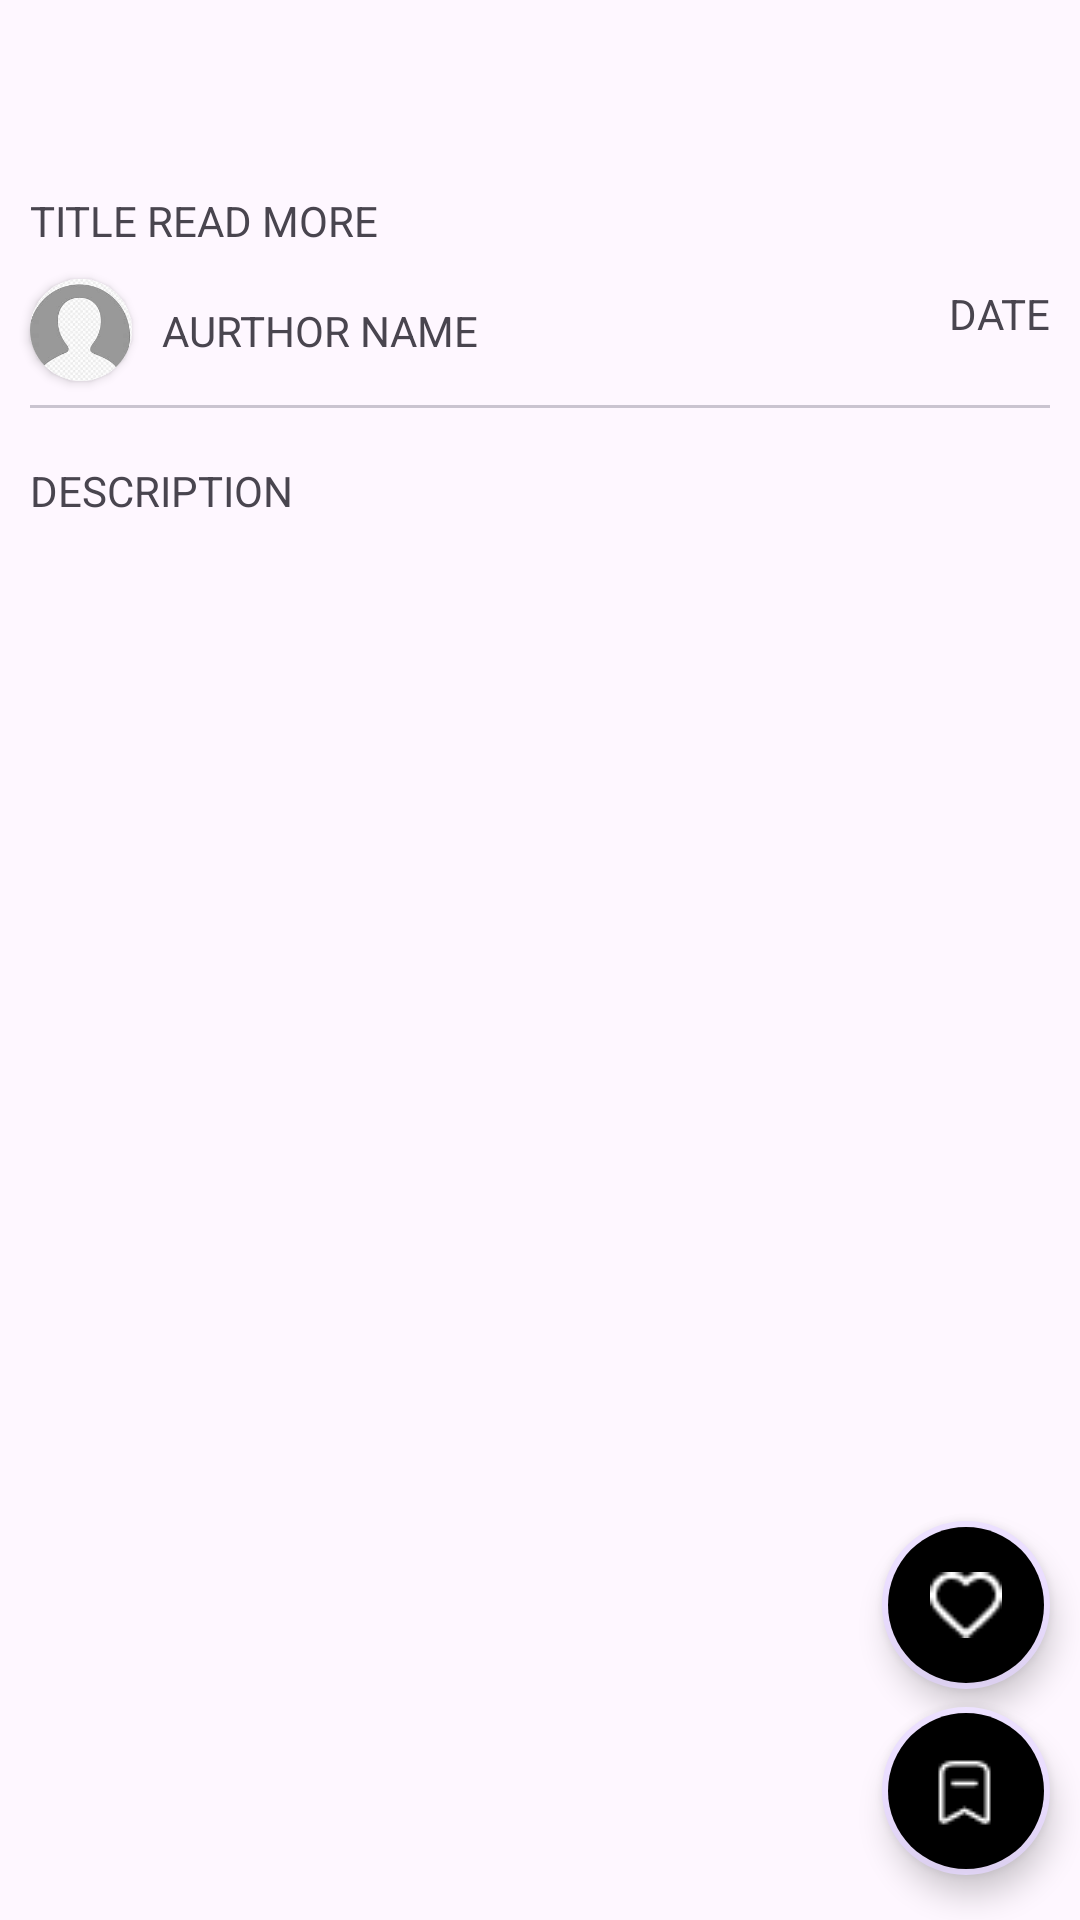

Icon click points for this 1080px x 1920px phone screenshot, format [x,y]:
bookmark: [966,1791]
heart: [966,1608]
registration defauult: [81,330]
